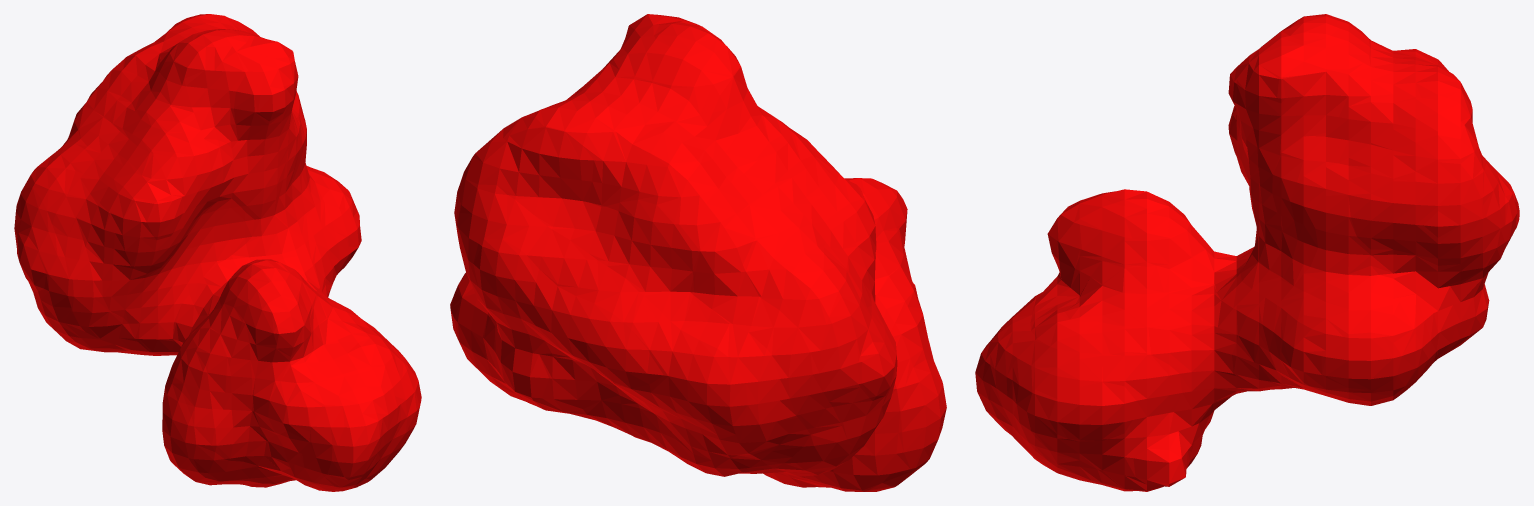
The model's file is glcC_coarse.dae.
The picture shows the model from 3 angles, left to right: view 1: azimuth 30°, elevation 25°; view 2: azimuth 150°, elevation 25°; view 3: azimuth 270°, elevation 25°; orthographic projection. The views are drawn at different scales.
Visible parts, largest first — view 1: glcC; view 2: glcC; view 3: glcC.
Part boxes in pixels (bbox=[...]): glcC: bbox=[14, 14, 421, 491]; glcC: bbox=[450, 14, 946, 491]; glcC: bbox=[975, 14, 1519, 491].
Size of the model in its own units: 50.33 by 57.86 by 62.85.
